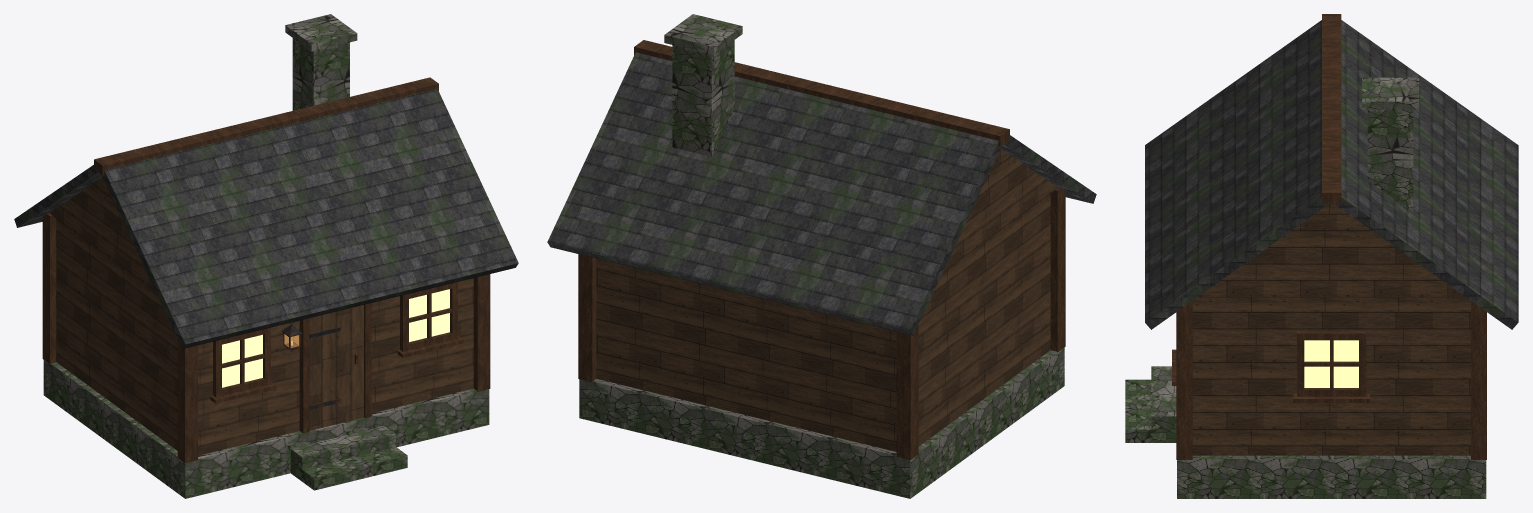
File: house_keeper_a.glb
3 renders of one model, left to right at view 1: azimuth 30°, elevation 25°; view 2: azimuth 150°, elevation 25°; view 3: azimuth 270°, elevation 25°, orthographic. The views are drawn at different scales.
Visible parts, largest first — view 1: house_keeper_a; view 2: house_keeper_a; view 3: house_keeper_a.
Part boxes in pixels (x1,y1,x2,y2): house_keeper_a: (14, 14, 518, 498); house_keeper_a: (547, 14, 1096, 498); house_keeper_a: (1125, 14, 1518, 498).
Bounding box in the file's own units: 5.75 × 5.57 × 5.34.
Materials: 9 (5 with a texture image).
